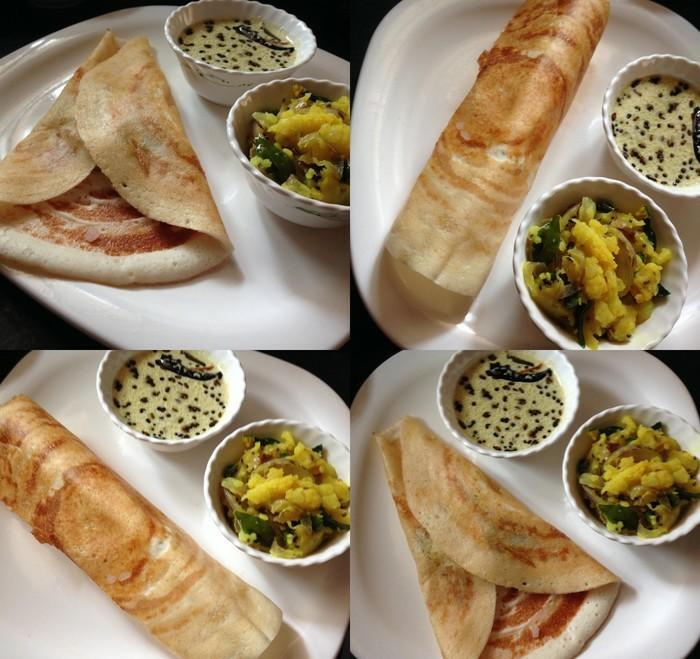CoconutChutney: (453, 352, 561, 452), (112, 350, 228, 441), (610, 75, 700, 185), (177, 18, 297, 72)
Dosa: (2, 395, 285, 659), (386, 2, 610, 302), (376, 417, 625, 658), (2, 33, 230, 290)
